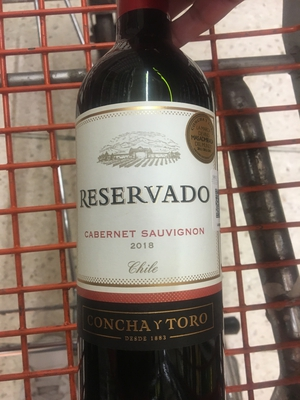reservado cabernet sauvignon: (71, 12, 227, 400)
